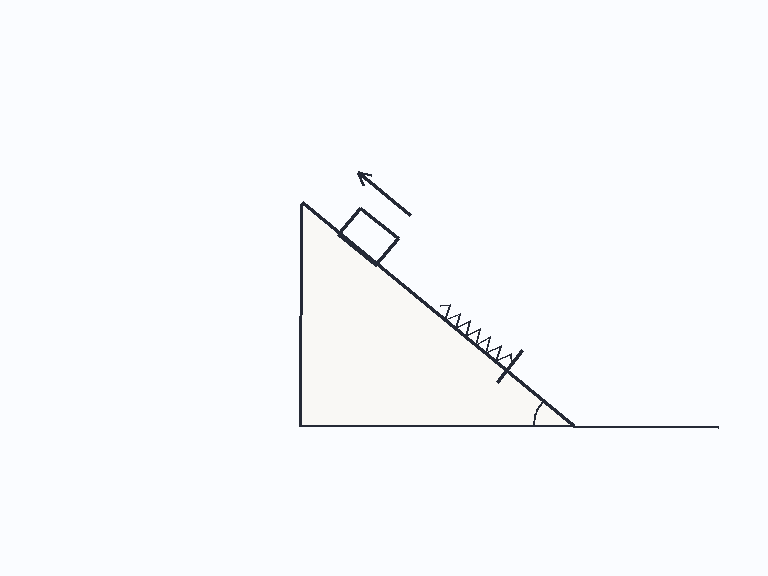block: (336, 205, 400, 267)
ramp: (298, 202, 576, 428)
spring: (438, 303, 513, 366)
